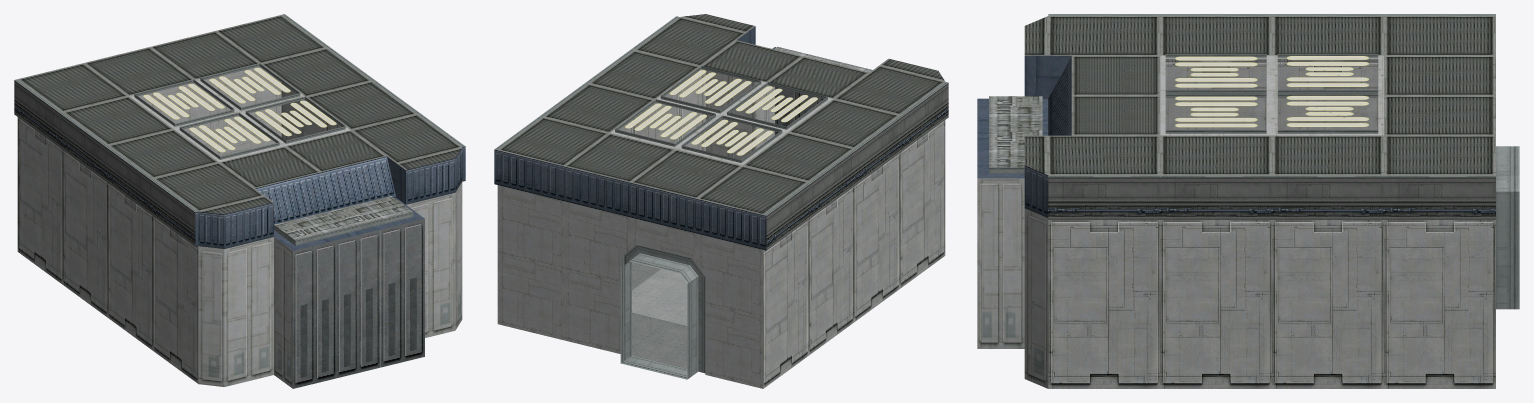
File: mun_all_military_base_police_station_impl_s01_r4_meeting1_mesh_r4.fbx
3 views of the same model, side by side, from view 1: azimuth 30°, elevation 25°; view 2: azimuth 150°, elevation 25°; view 3: azimuth 270°, elevation 25° (orthographic). The views are drawn at different scales.
Visible parts, largest first — view 1: mesh_node; view 2: mesh_node; view 3: mesh_node.
Part boxes in pixels (x1=…): mesh_node: x1=14, y1=14, x2=465, y2=388; mesh_node: x1=494, y1=14, x2=948, y2=388; mesh_node: x1=977, y1=14, x2=1519, y2=388.
Size of the model in its own units: 8.2 by 5.09 by 11.5.
